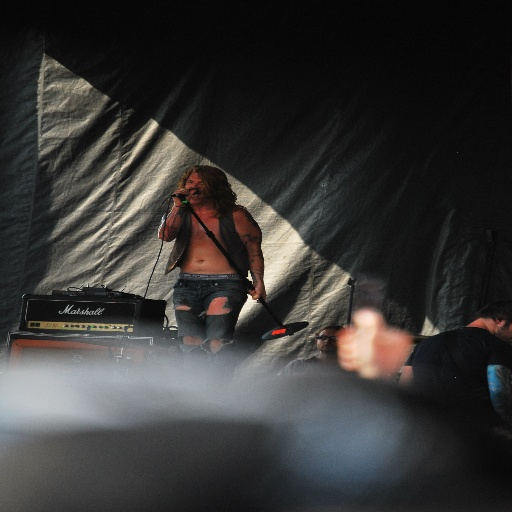hand: (341, 308, 417, 373), (248, 282, 267, 303), (172, 186, 190, 207)
